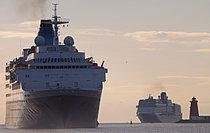Ship: (2, 2, 111, 132), (136, 89, 187, 127)
